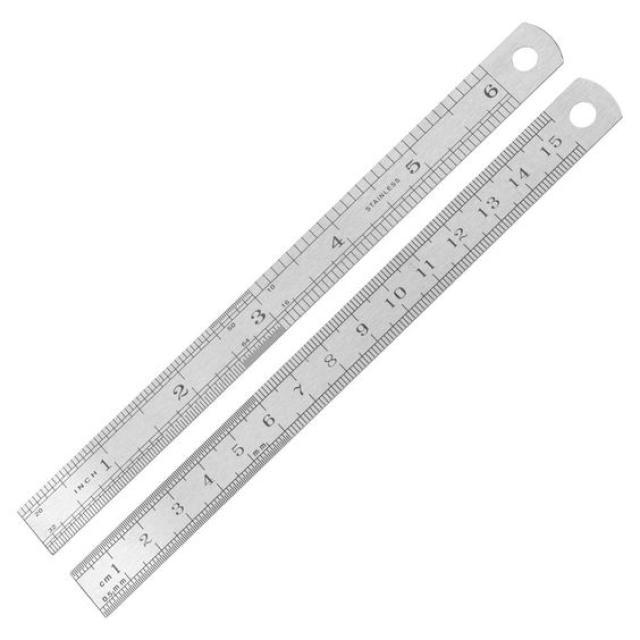Ruler: (58, 70, 630, 628)
